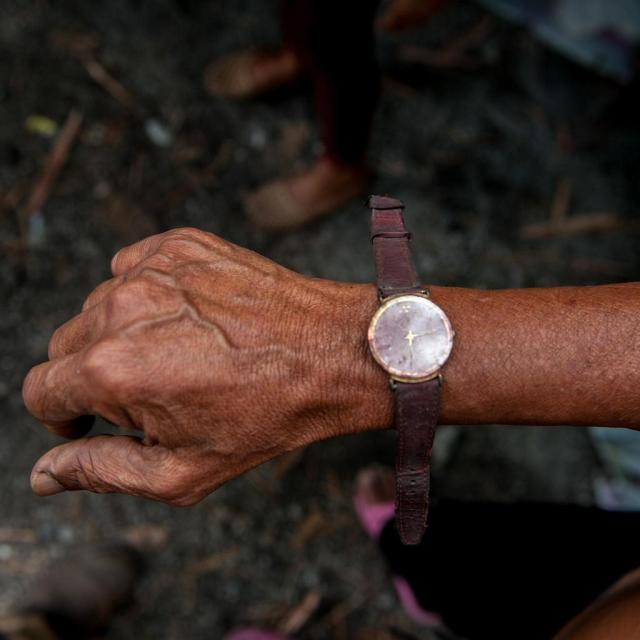Wrist watch: (364, 193, 455, 549)
